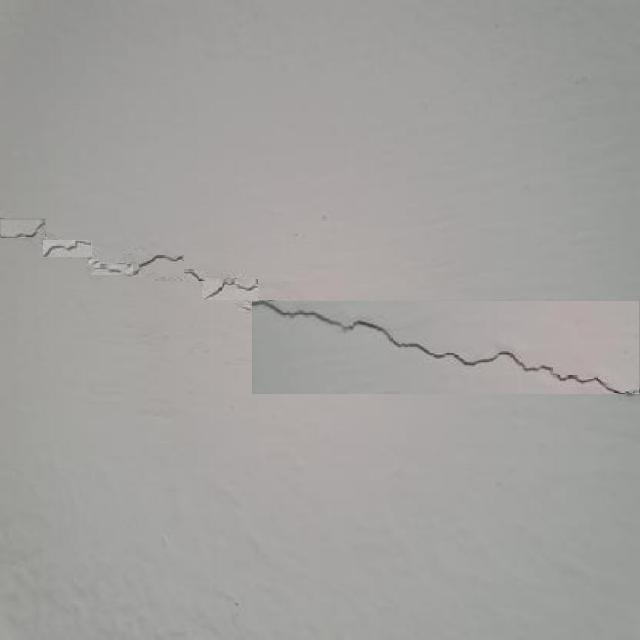diagonal crack: (253, 301, 639, 394), (126, 255, 184, 276), (203, 281, 258, 299), (43, 240, 91, 257), (1, 221, 45, 237), (183, 271, 206, 280), (238, 305, 252, 310), (89, 260, 100, 266)
horizontal crack: (91, 266, 133, 274)
